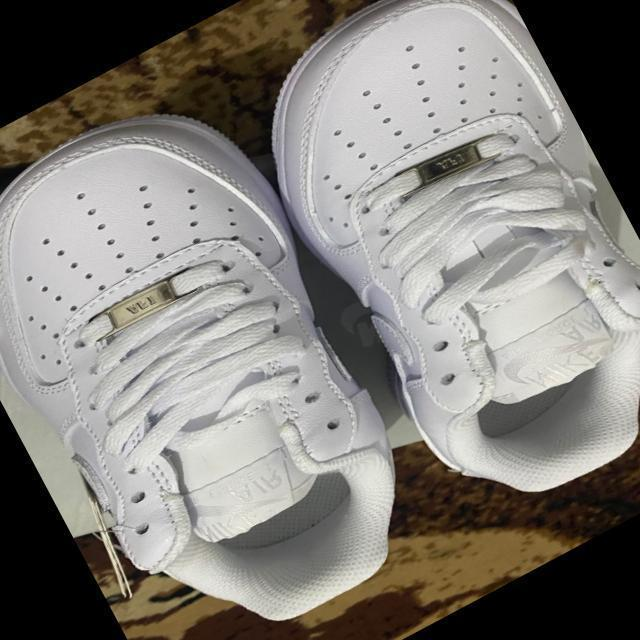nike fake air force: (0, 67, 456, 640), (212, 0, 640, 544)
